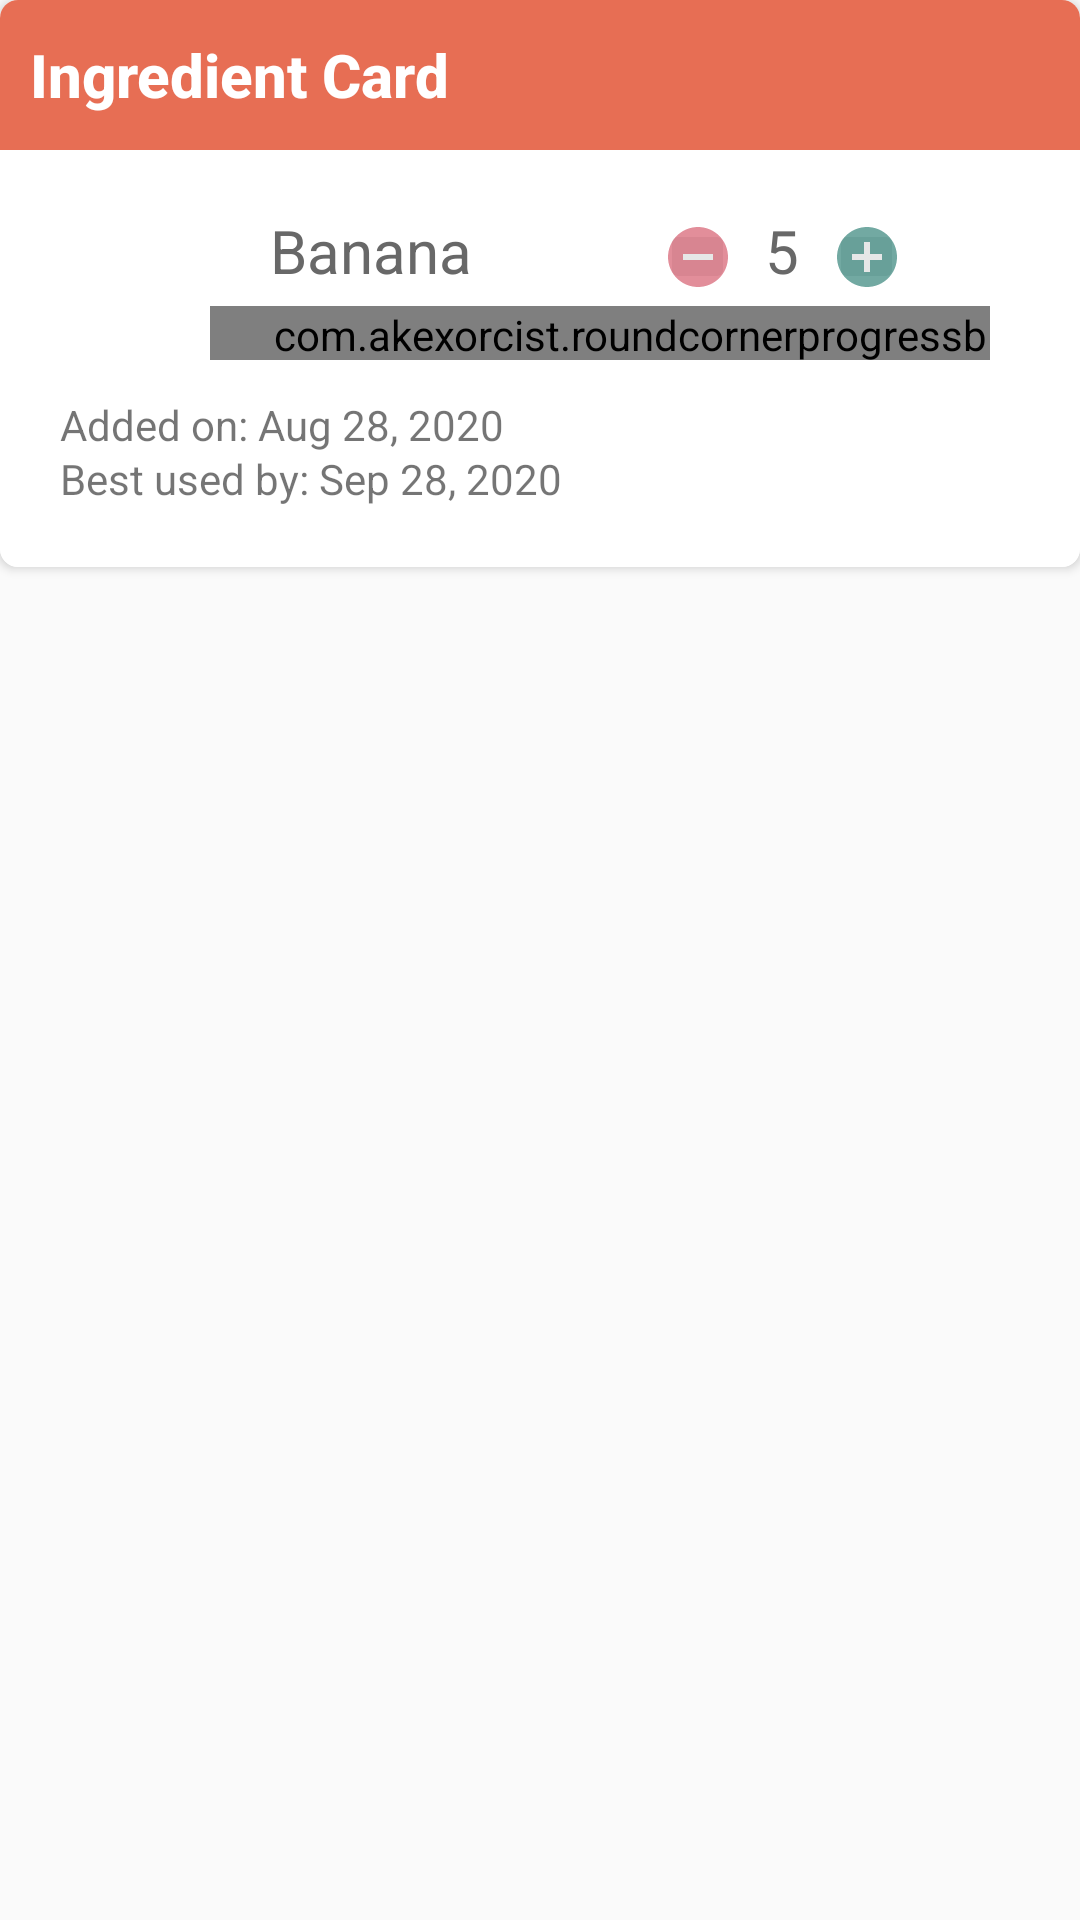

Icon click points for this 1080w x 1920h phone screenshot, format point (x, y):
add circle: point (867, 257)
remove circle: point (698, 257)
